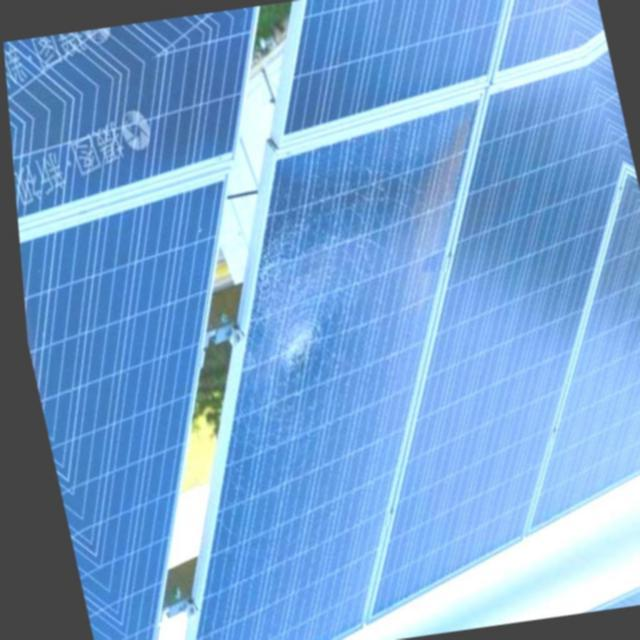cracked: (218, 100, 477, 640)
